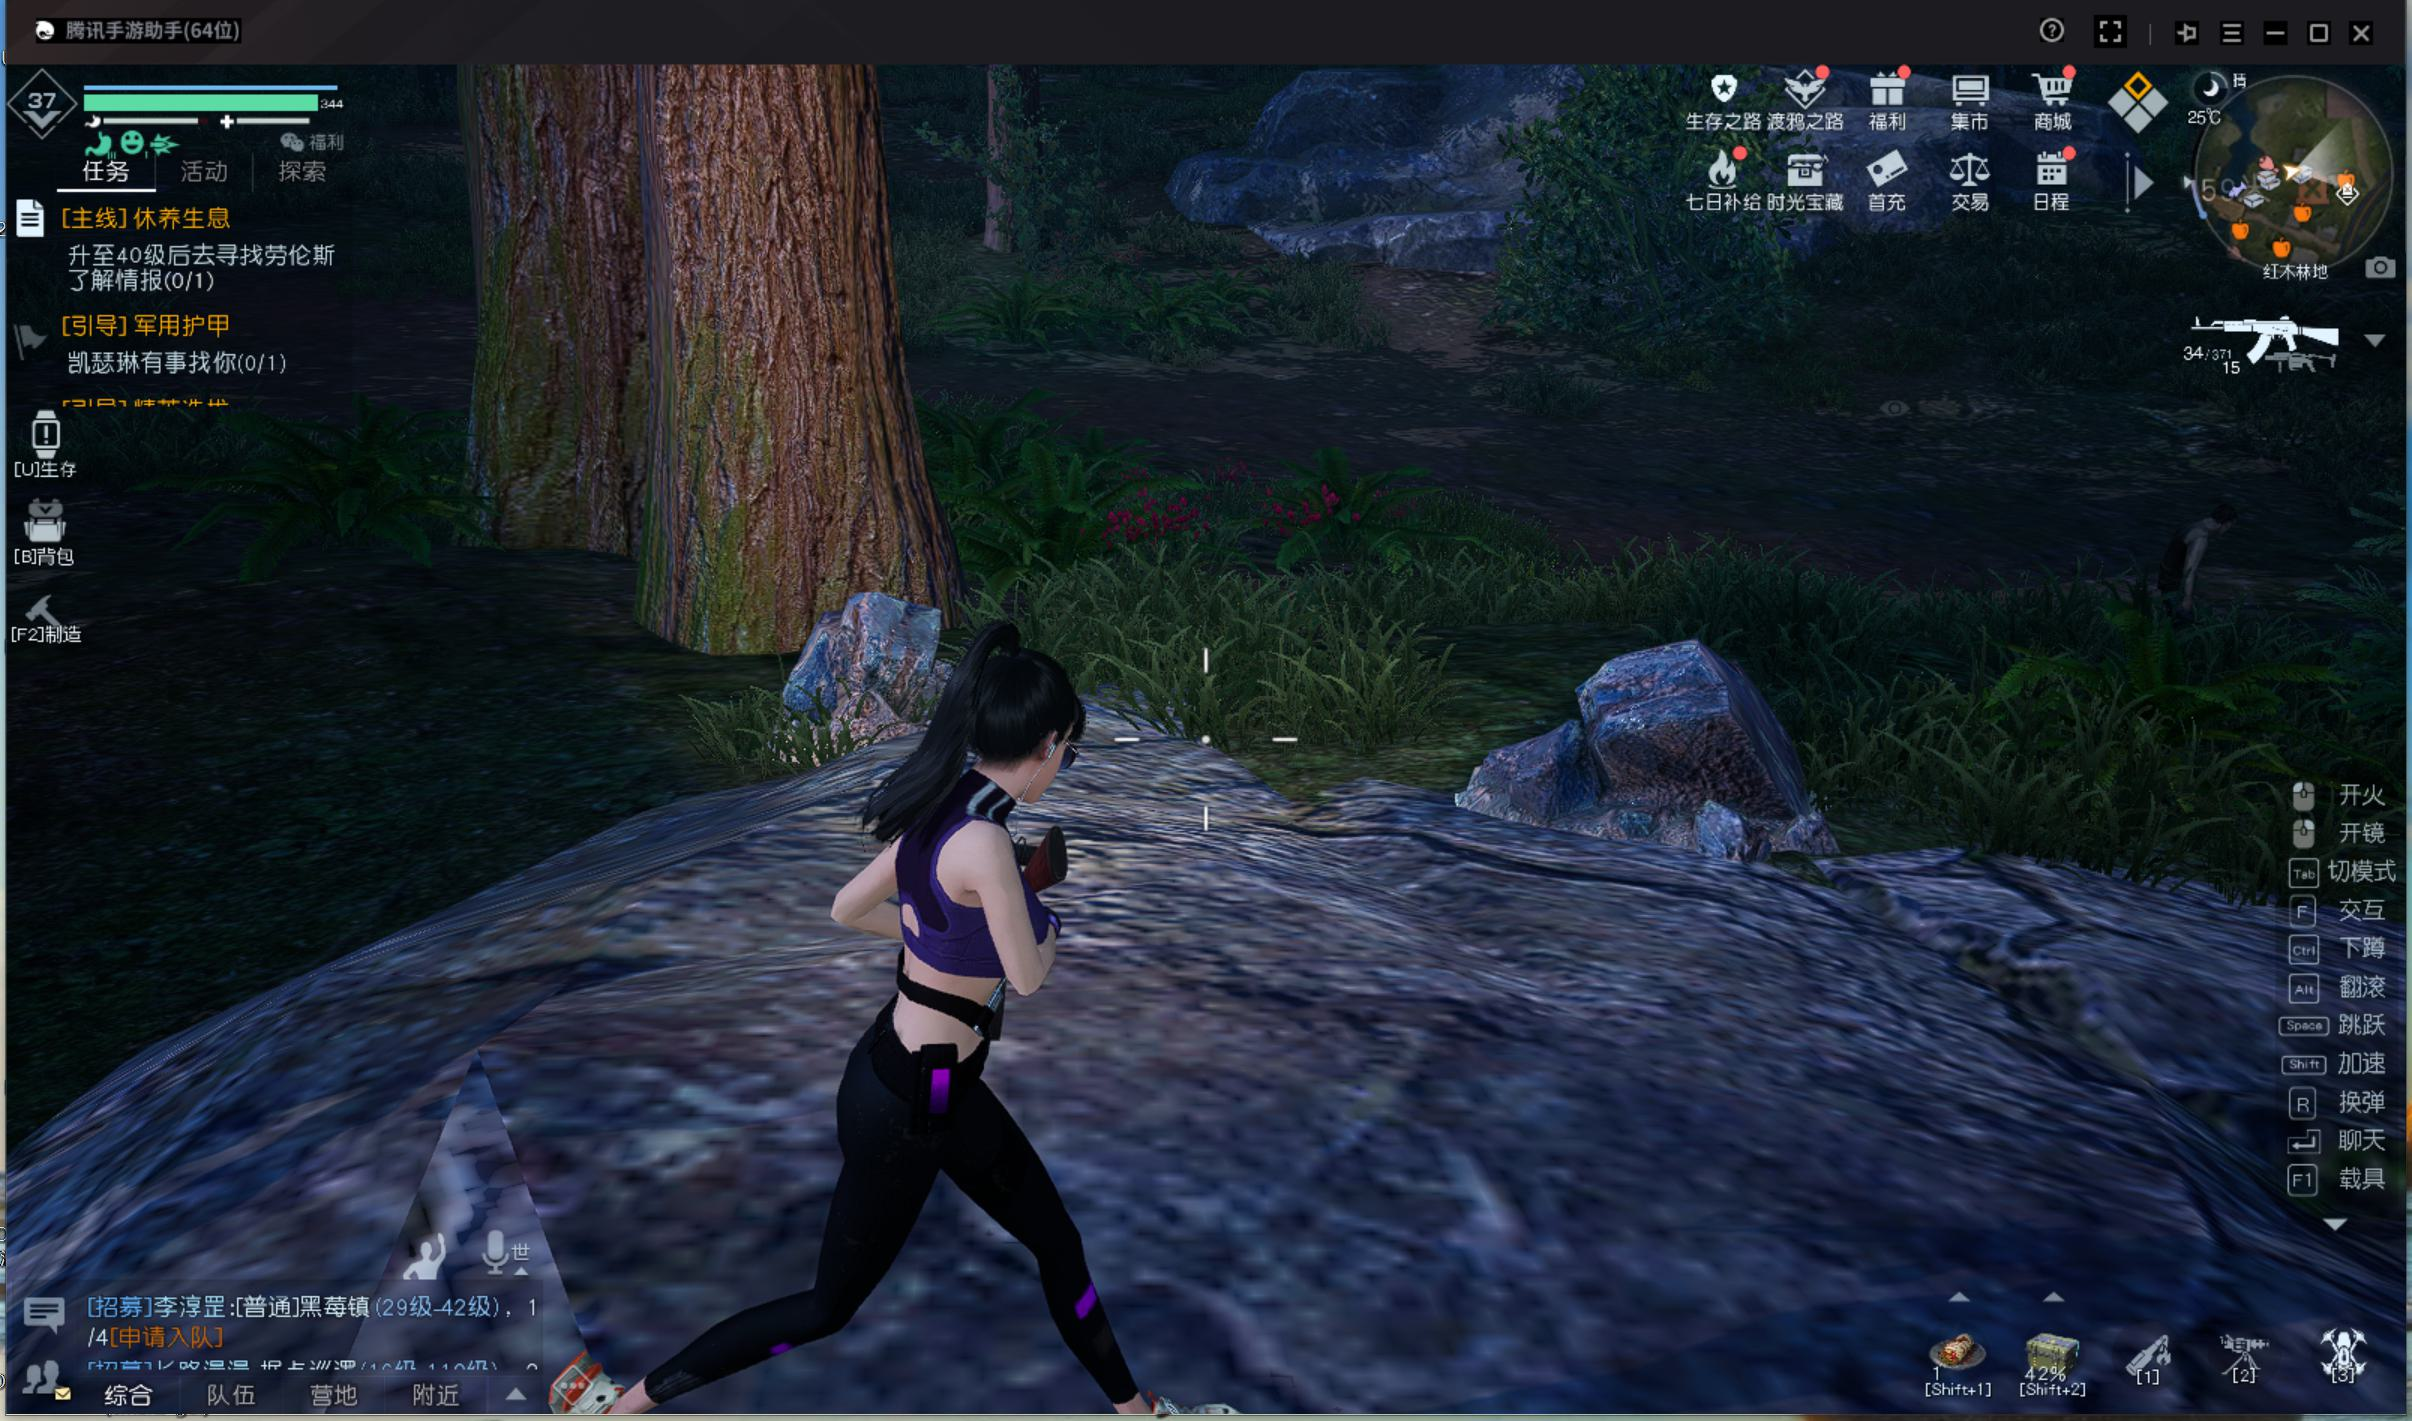stone: (1456, 562, 1835, 903), (771, 572, 940, 726)
